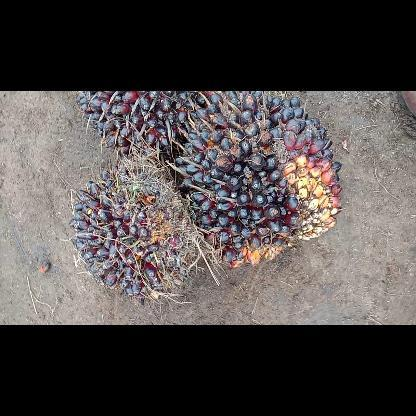TBS mentah: (170, 92, 344, 270), (68, 157, 202, 309), (73, 90, 267, 160)
